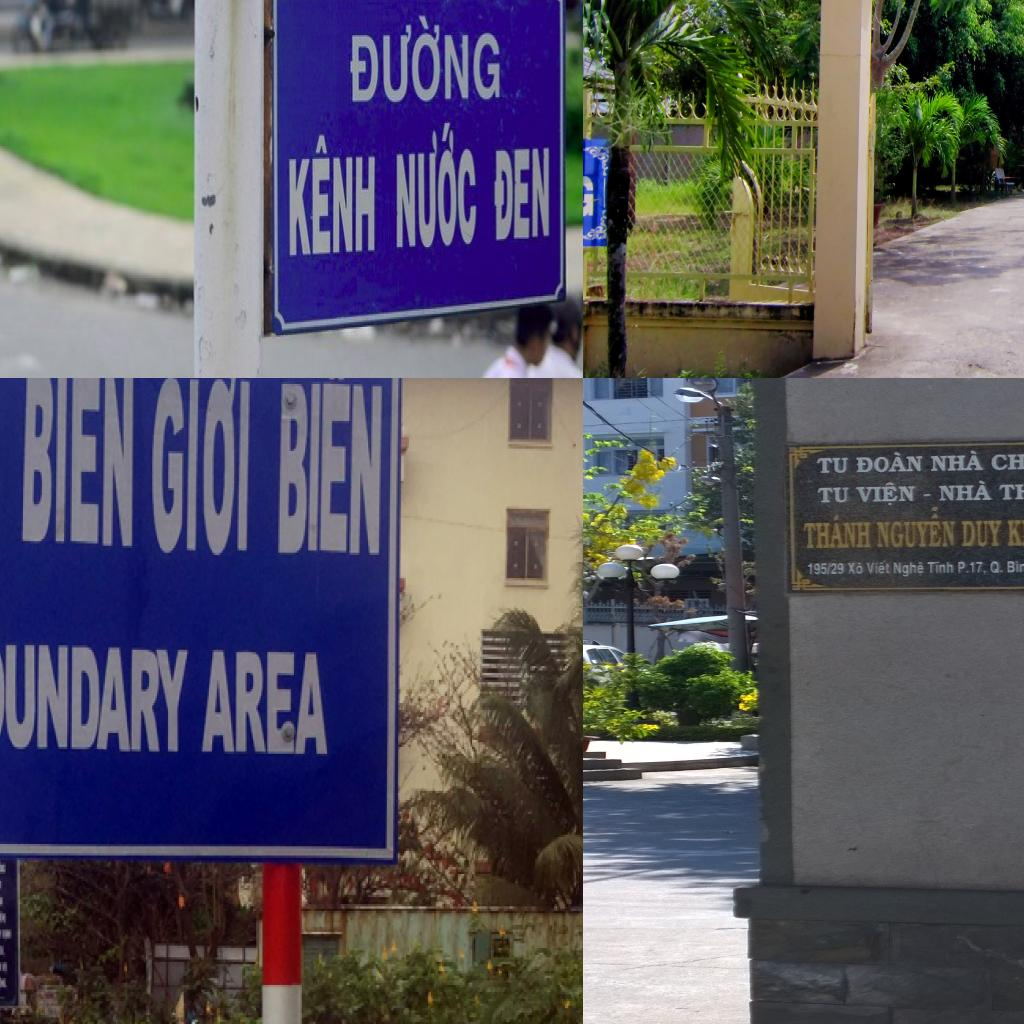text: (0, 640, 193, 756), (18, 378, 137, 555), (273, 378, 388, 559), (150, 378, 253, 557), (346, 19, 500, 108), (291, 138, 379, 262), (396, 120, 478, 250), (494, 146, 554, 244), (874, 506, 956, 548), (802, 515, 872, 549), (855, 481, 916, 507), (855, 452, 924, 473), (930, 450, 987, 472), (938, 480, 991, 503), (961, 520, 1003, 548), (988, 448, 1024, 470), (814, 458, 850, 474), (816, 486, 848, 504), (806, 562, 847, 576), (893, 561, 925, 578), (1006, 517, 1024, 547), (999, 478, 1024, 499), (926, 561, 958, 575), (958, 560, 990, 574), (990, 560, 1024, 573), (866, 560, 892, 575), (847, 562, 865, 575)
